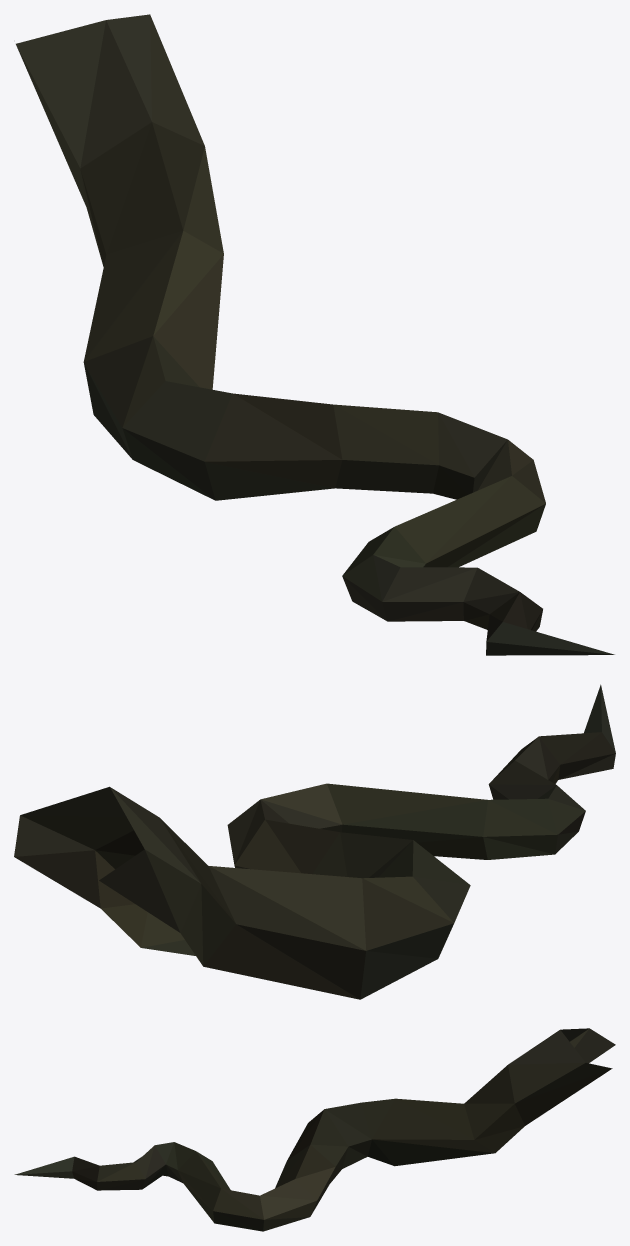
File: prop_vine_8.fbx
3 views of the same model, one above another, from view 1: azimuth 30°, elevation 25°; view 2: azimuth 150°, elevation 25°; view 3: azimuth 270°, elevation 25° (orthographic). The views are drawn at different scales.
Visible parts, largest first — view 1: prop_vine_8; view 2: prop_vine_8; view 3: prop_vine_8.
Part boxes in pixels (x1,y1,x2,y2): prop_vine_8: [16, 14, 614, 655]; prop_vine_8: [14, 684, 615, 999]; prop_vine_8: [14, 1028, 615, 1231].
Size of the model in its own units: 2.06 by 1.86 by 6.17.
